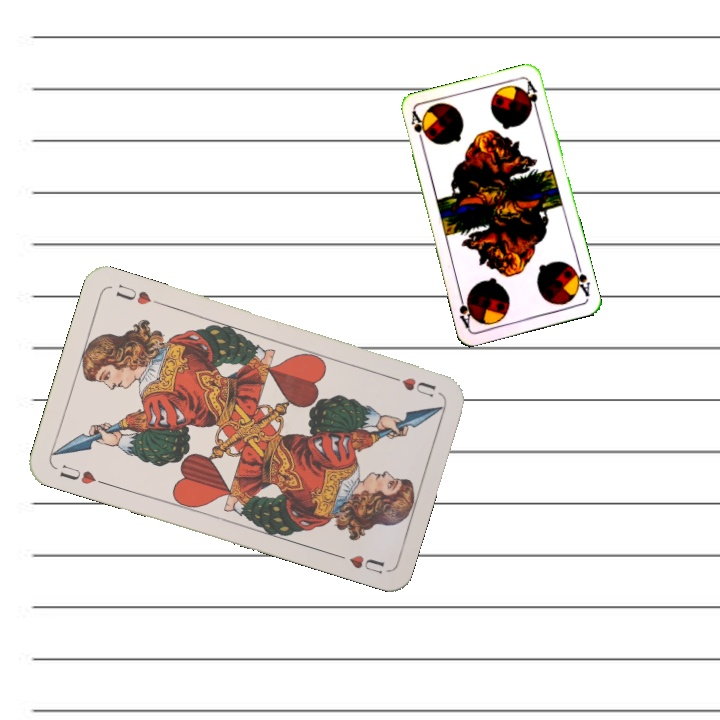HU: (384, 371, 439, 400), (55, 460, 109, 488)
SA: (567, 260, 592, 299), (407, 108, 429, 148)
